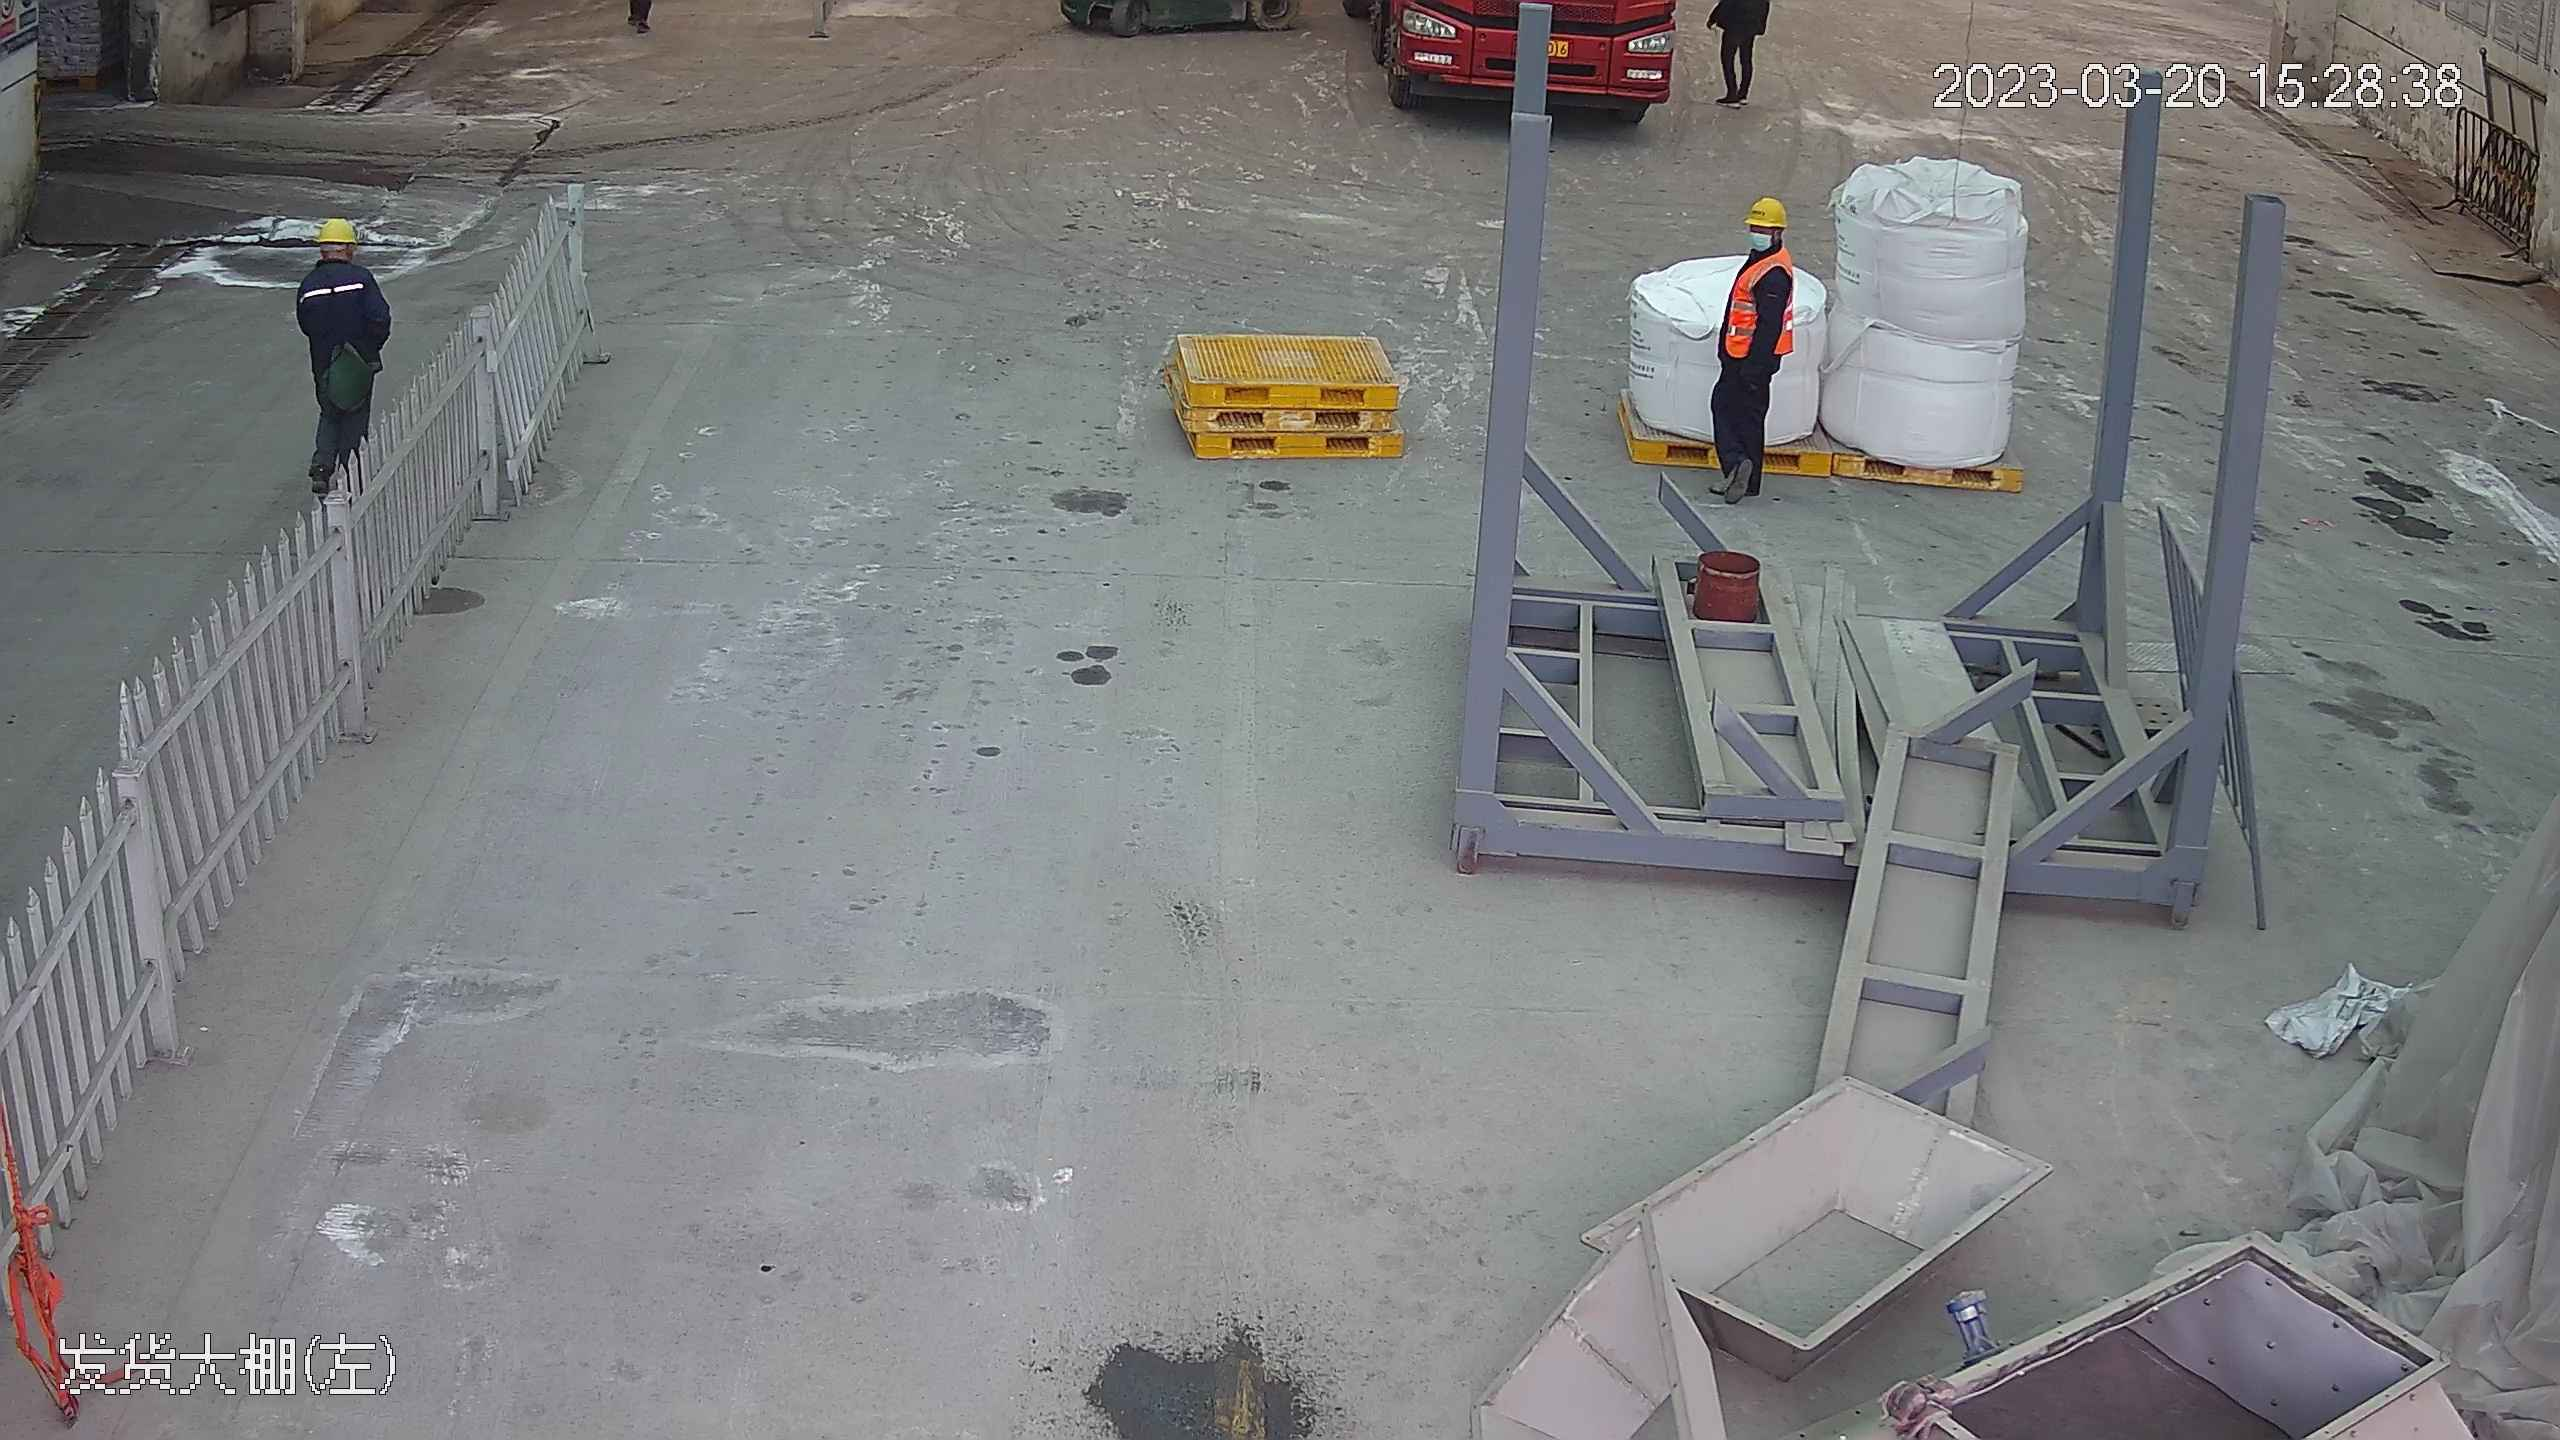head: (286, 211, 393, 493), (1728, 191, 1797, 290), (297, 216, 376, 297)
helmet: (309, 215, 357, 249), (1743, 194, 1790, 227)
people: (285, 209, 394, 500), (1704, 190, 1799, 500), (1703, 0, 1767, 100)
truck: (1353, 0, 1665, 103)
